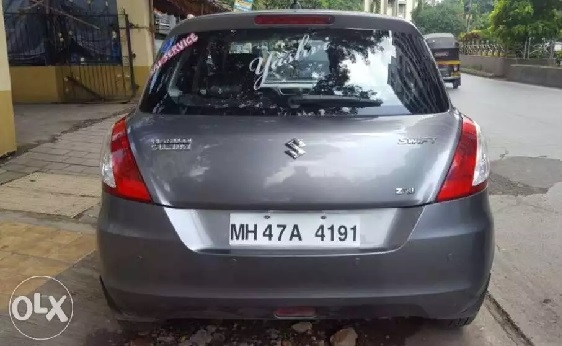licenseplate: (228, 210, 364, 249)
